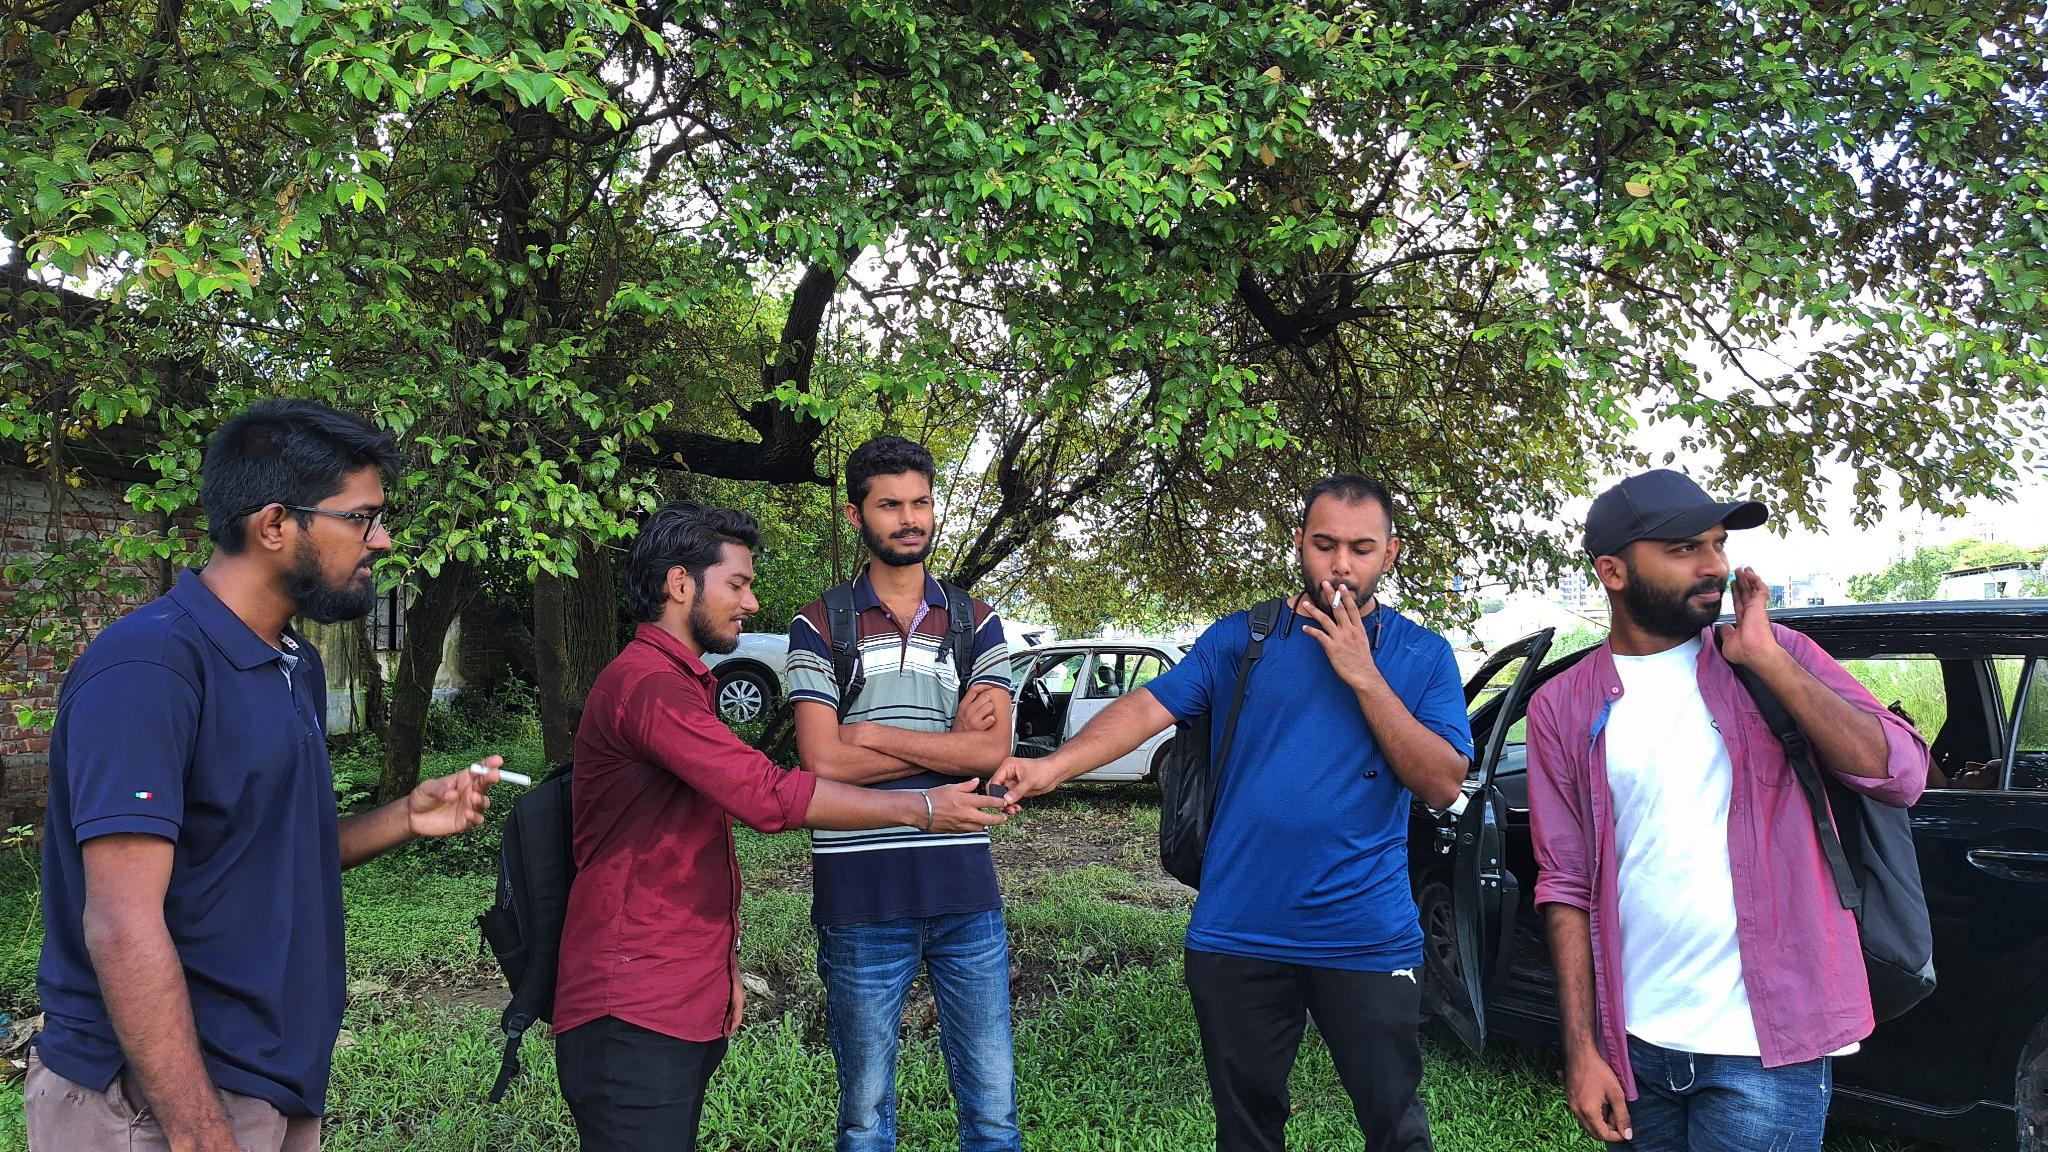cigarette: (468, 761, 533, 789), (1331, 587, 1345, 610)
nonSmoker: (482, 511, 1001, 1152), (1526, 468, 1938, 1152), (785, 437, 1016, 1152)
smoker: (24, 399, 504, 1152), (993, 470, 1471, 1152)
